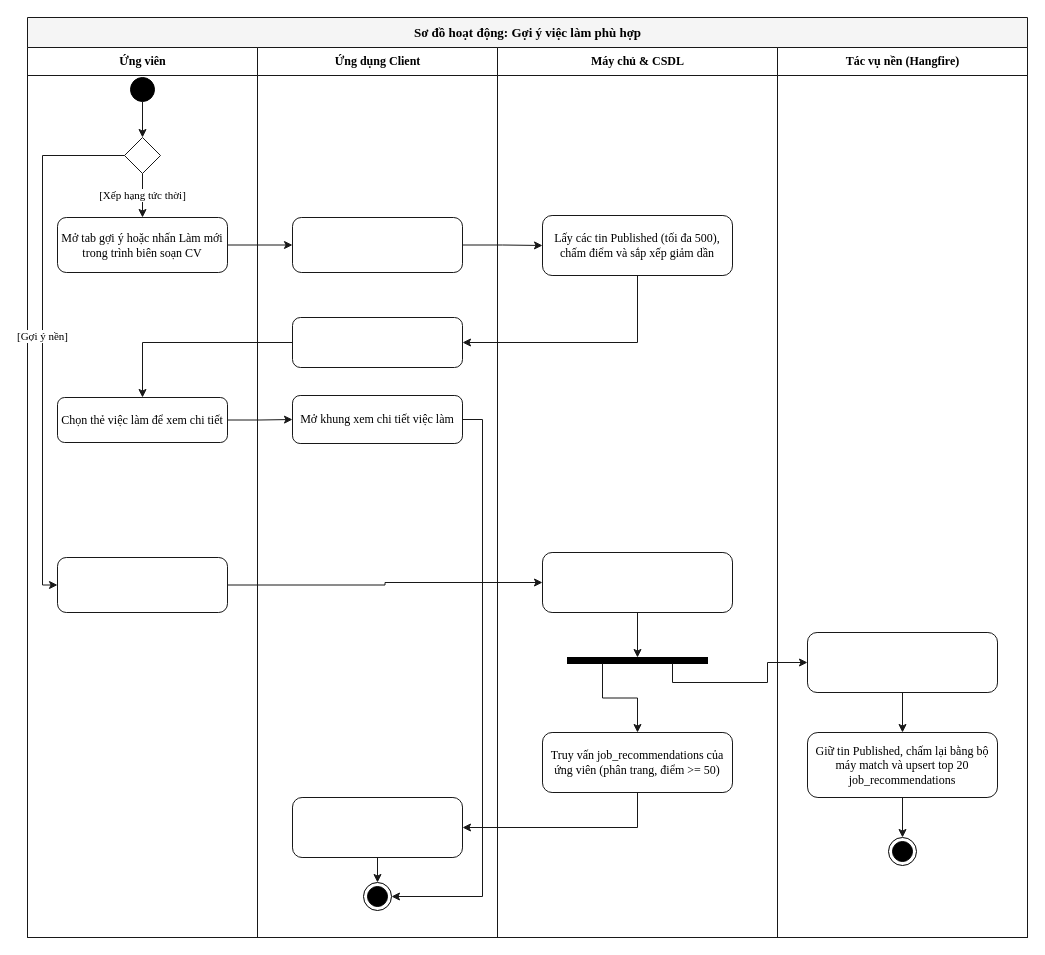
Some shapes in this 1045 by 955 pixel diagram are drawn without their labels. The centre of each missing label's shape, as x and y in pixels:
"Gửi văn bản CV hiện tại đến API xếp hạng tức thời" belongs at pixel 377 244.
"Gửi yêu cầu làm mới hoặc truy vấn gợi ý nền qua API" belongs at pixel 142 584.
"Hiển thị danh sách việc làm kèm điểm phù hợp" belongs at pixel 377 342.
"Kiểm tra thời gian chờ (cooldown) và tạo cv_embeddings nếu cần" belongs at pixel 637 582.
"Lấy cv_embeddings mới nhất, tìm top 40 việc tương tự bằng pgvector" belongs at pixel 902 662.
"Nhận trạng thái đã lên lịch hoặc danh sách gợi ý (tối thiểu 50 điểm)" belongs at pixel 377 827.
